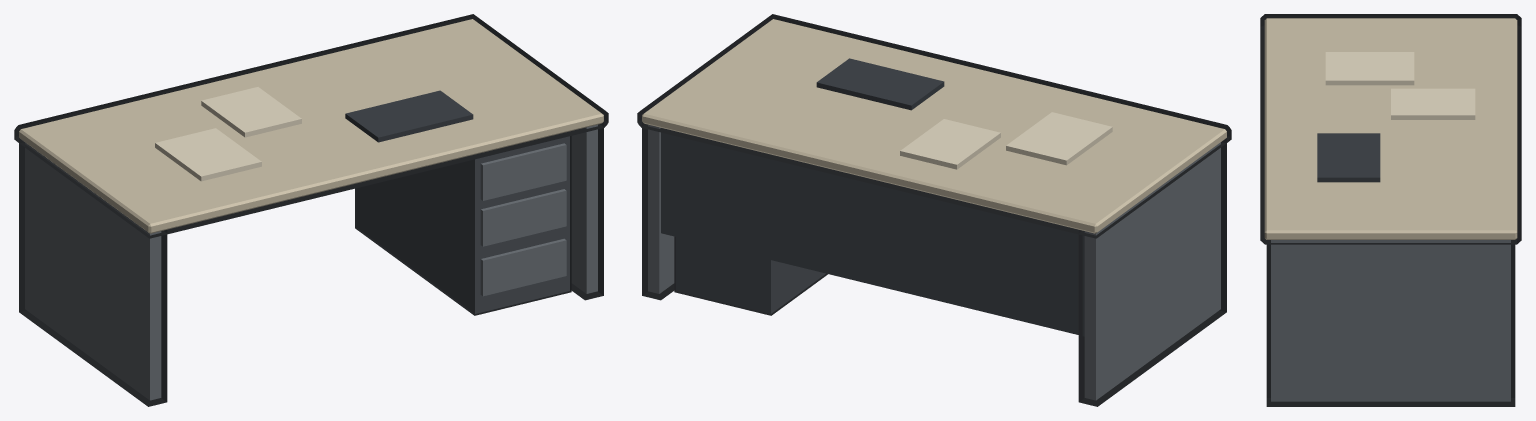
File: SM_Desk.glb
3 renders of one model, left to right at view 1: azimuth 30°, elevation 25°; view 2: azimuth 150°, elevation 25°; view 3: azimuth 270°, elevation 25°, orthographic. The views are drawn at different scales.
Parts seen in each view (by area): view 1: SM_Desk, SM_Desk_Outline; view 2: SM_Desk, SM_Desk_Outline; view 3: SM_Desk, SM_Desk_Outline.
Boxes of the visible parts, bbox=[...] form: SM_Desk: bbox=[19, 19, 603, 400]; SM_Desk_Outline: bbox=[14, 14, 608, 406]; SM_Desk: bbox=[642, 19, 1226, 400]; SM_Desk_Outline: bbox=[637, 14, 1231, 406]; SM_Desk: bbox=[1264, 18, 1517, 401]; SM_Desk_Outline: bbox=[1260, 14, 1521, 406].
Size of the model in its own units: 2.44 by 0.9441 by 1.24.
Materials: 2 (1 with a texture image).
